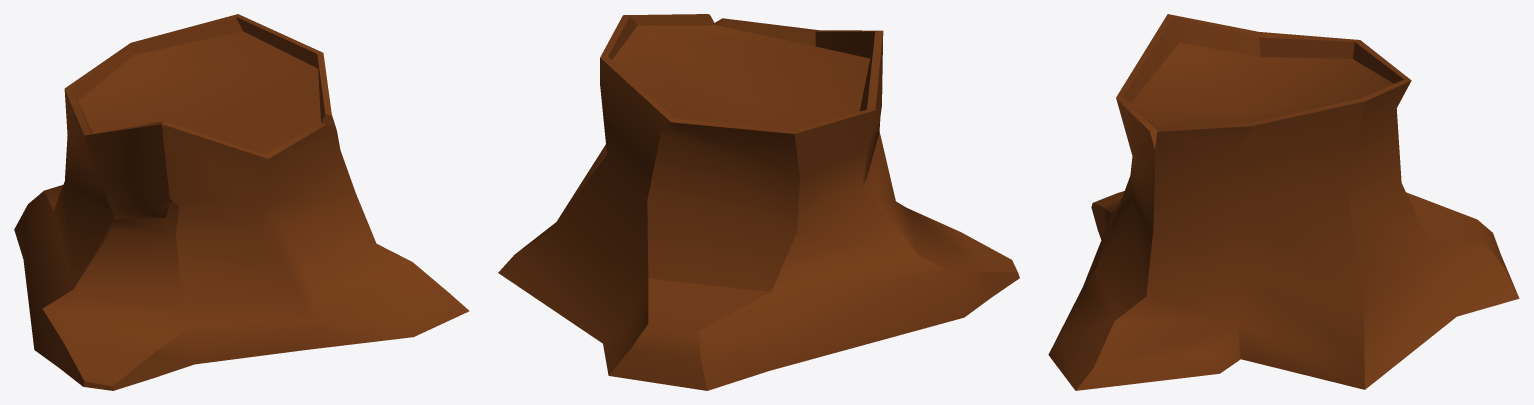
File: M_Stump1.fbx
The picture shows the model from 3 angles, left to right: view 1: azimuth 30°, elevation 25°; view 2: azimuth 150°, elevation 25°; view 3: azimuth 270°, elevation 25°; orthographic projection. The views are drawn at different scales.
Parts seen in each view (by area): view 1: M_Stump 1; view 2: M_Stump 1; view 3: M_Stump 1.
Part boxes in pixels (x1,y1,x2,y2): M_Stump 1: [14, 14, 469, 390]; M_Stump 1: [498, 14, 1019, 390]; M_Stump 1: [1048, 14, 1519, 390].
Bounding box in the file's own units: 0.5936 × 0.3429 × 0.6116.
